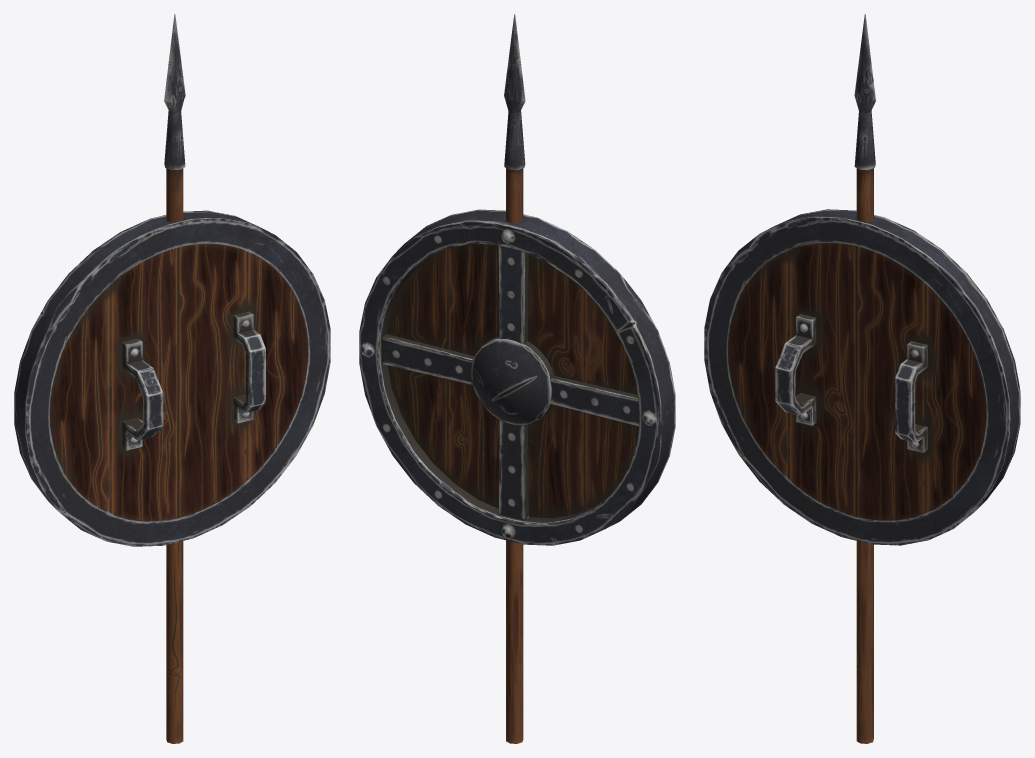
Rendered from bark_end_shield.fbx.
3 renders of one model, left to right at view 1: azimuth 30°, elevation 25°; view 2: azimuth 150°, elevation 25°; view 3: azimuth 330°, elevation 25°, orthographic.
Parts seen in each view (by area): view 1: shield, bark; view 2: shield, bark; view 3: shield, bark.
Boxes of the visible parts, left/top/right/bottom form: shield: left=14, top=210, right=330, bottom=546; bark: left=164, top=14, right=185, bottom=743; shield: left=359, top=209, right=675, bottom=545; bark: left=504, top=14, right=525, bottom=743; shield: left=704, top=209, right=1020, bottom=545; bark: left=854, top=14, right=875, bottom=743.
Bounding box in the file's own units: 0.7907 × 1.8 × 0.1948.
1 material, 1 textured.
